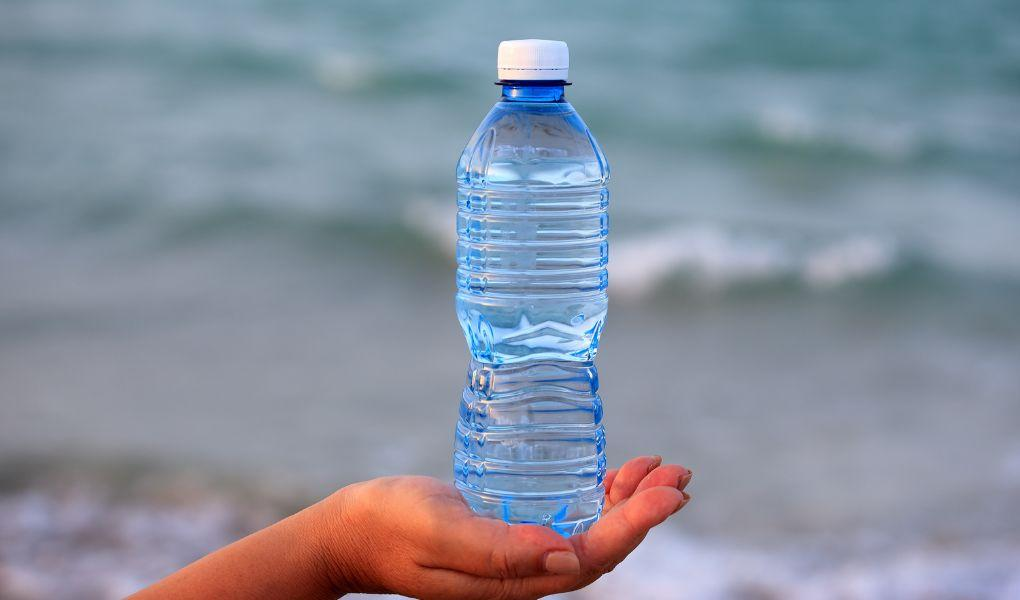paper: (452, 38, 610, 536)
